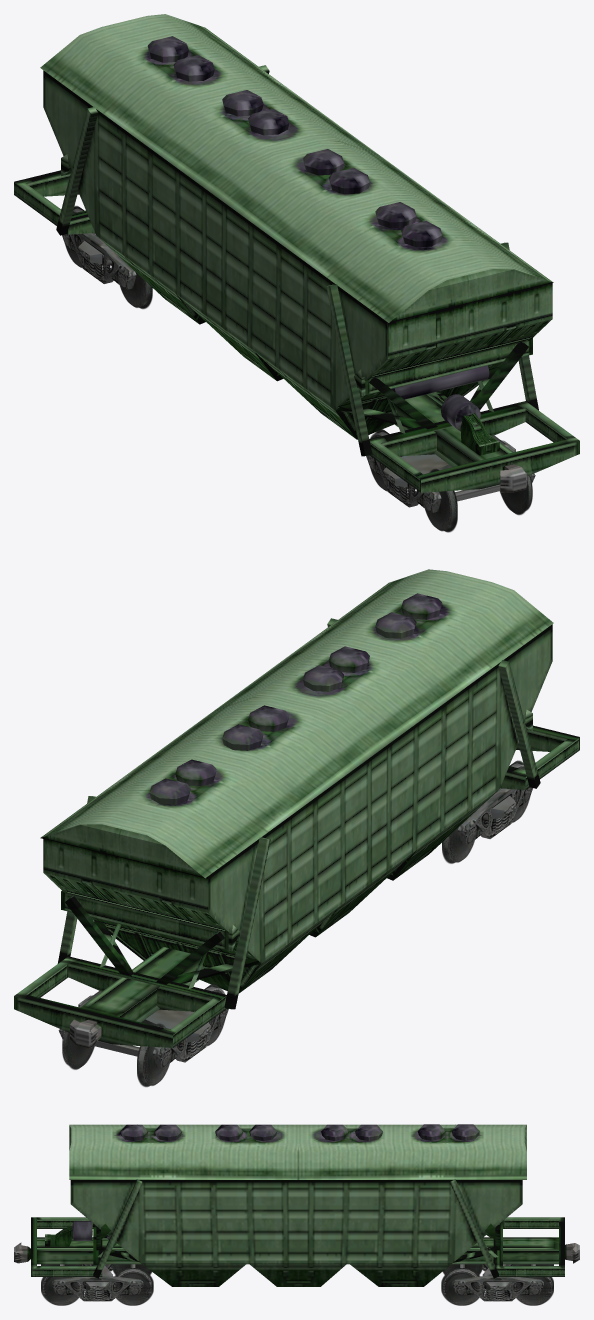
File: car.glb
3 renders of one model, top to bottom at view 1: azimuth 30°, elevation 25°; view 2: azimuth 150°, elevation 25°; view 3: azimuth 270°, elevation 25°, orthographic. The views are drawn at different scales.
Visible parts, largest first — view 1: waggons, rw_cart.2, rw_cart, rw_cart.009, rw_cart.004, rw_cart.007; view 2: waggons, rw_cart, rw_cart.2, rw_cart.003, rw_cart.001, rw_cart.008; view 3: waggons, rw_cart.2, rw_cart, rw_cart.002, rw_cart.006, rw_cart.007, rw_cart.001.
Part boxes in pixels (x1=…): waggons: x1=14, y1=14, x2=579, y2=493; rw_cart.2: x1=366, y1=435, x2=535, y2=512; rw_cart: x1=62, y1=233, x2=136, y2=289; rw_cart.009: x1=425, y1=469, x2=457, y2=532; rw_cart.004: x1=119, y1=272, x2=152, y2=309; rw_cart.007: x1=500, y1=475, x2=532, y2=515; waggons: x1=14, y1=569, x2=579, y2=1048; rw_cart: x1=58, y1=991, x2=228, y2=1067; rw_cart.2: x1=458, y1=787, x2=532, y2=844; rw_cart.003: x1=137, y1=1023, x2=169, y2=1087; rw_cart.001: x1=62, y1=1031, x2=94, y2=1069; rw_cart.008: x1=442, y1=827, x2=474, y2=863; waggons: x1=14, y1=1124, x2=579, y2=1286; rw_cart.2: x1=52, y1=1264, x2=143, y2=1301; rw_cart: x1=452, y1=1264, x2=543, y2=1301; rw_cart.002: x1=441, y1=1268, x2=480, y2=1305; rw_cart.006: x1=114, y1=1268, x2=153, y2=1305; rw_cart.007: x1=41, y1=1277, x2=79, y2=1305; rw_cart.001: x1=514, y1=1277, x2=553, y2=1305.
Bounding box in the file's own units: 3.54 × 4.81 × 14.84.
2 materials, 2 textured.
